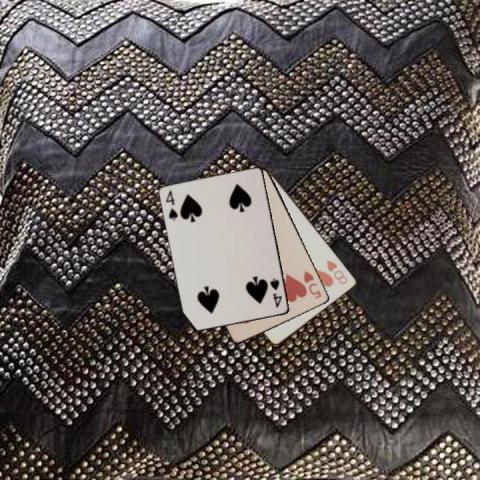4s: (268, 276, 284, 310), (164, 188, 180, 222)
5h: (300, 267, 322, 301)
8h: (324, 257, 349, 286)
